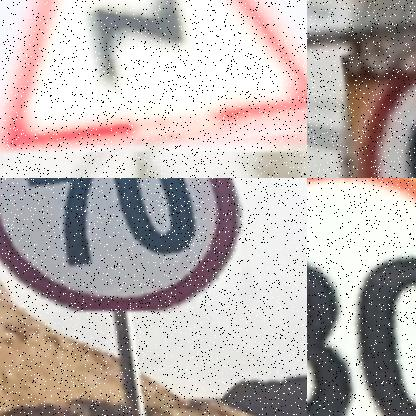Speed Limit (80 kmph): (307, 178, 416, 416)
Speed Limit -60 kmph-: (355, 36, 416, 178), (362, 64, 416, 178)
